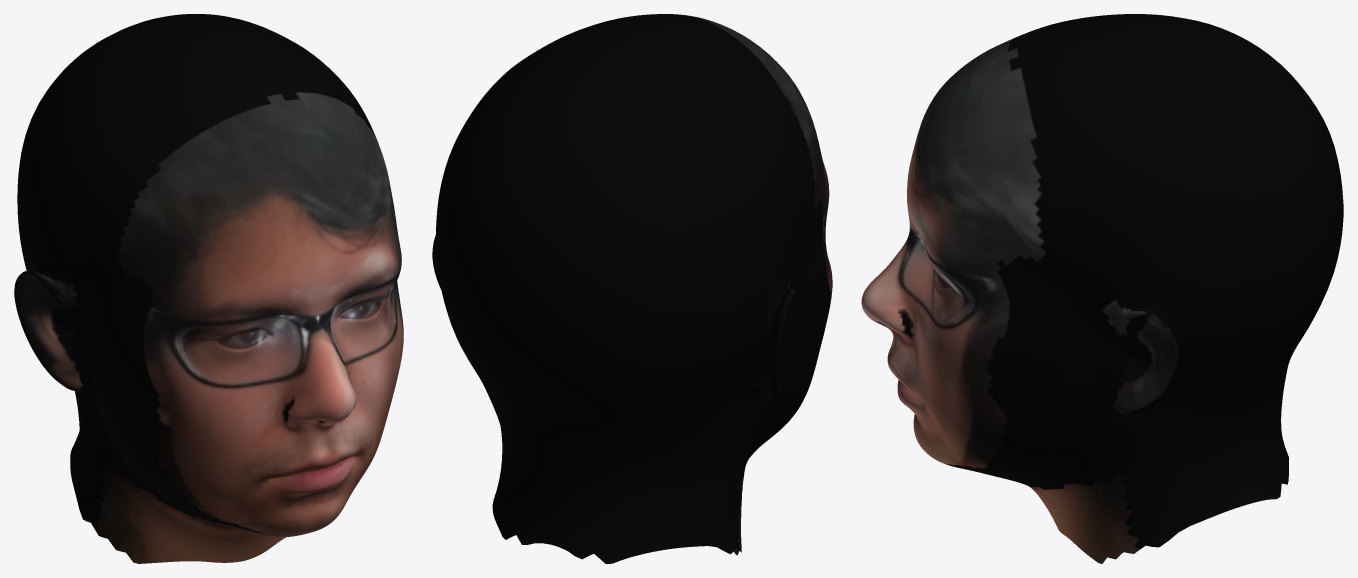
File: oscarcara.glb
The picture shows the model from 3 angles, left to right: view 1: azimuth 30°, elevation 25°; view 2: azimuth 150°, elevation 25°; view 3: azimuth 270°, elevation 25°; orthographic projection. The views are drawn at different scales.
Visible parts, largest first — view 1: FaceBuilderHead; view 2: FaceBuilderHead; view 3: FaceBuilderHead.
Part boxes in pixels (x1=…): FaceBuilderHead: x1=14, y1=14, x2=403, y2=563; FaceBuilderHead: x1=432, y1=14, x2=832, y2=563; FaceBuilderHead: x1=861, y1=14, x2=1343, y2=563.
Bounding box in the file's own units: 1.72 × 2.37 × 2.1.
1 material, 1 textured.
